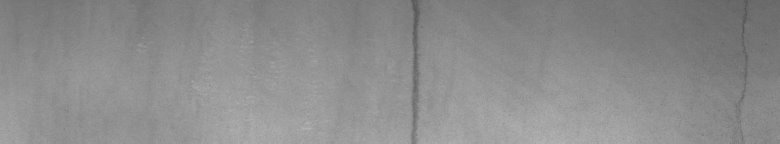hd: (408, 4, 424, 136)
